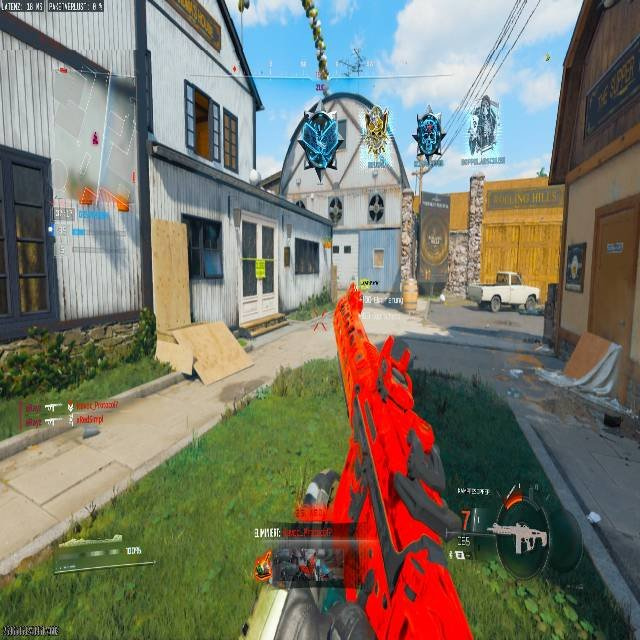player: (412, 110, 445, 172)
